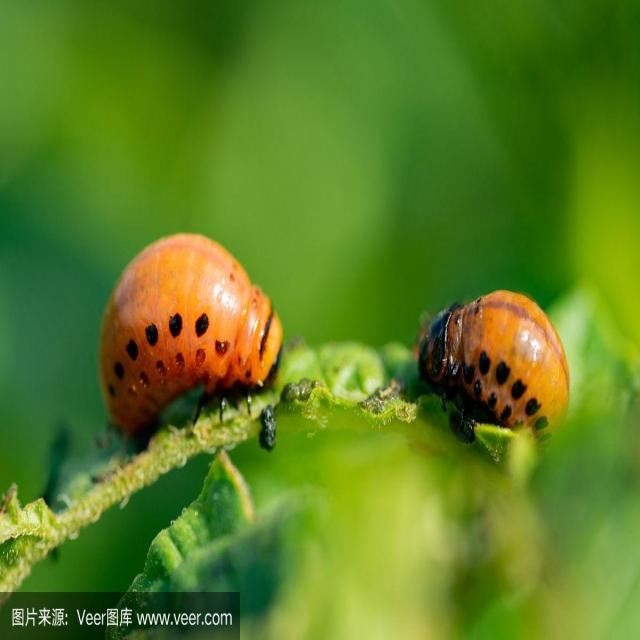ShuCaiHuaBanChong-Larva-: (82, 223, 292, 424), (424, 265, 562, 454)
